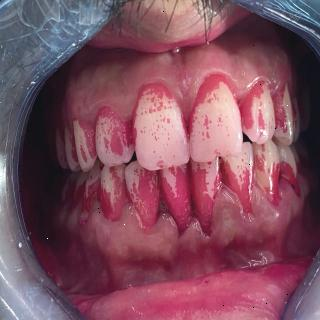Gum Swelling: (83, 182, 300, 267)
